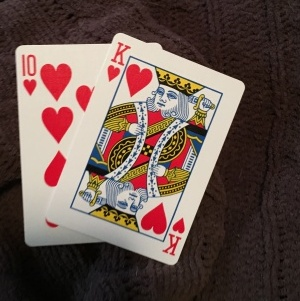card: (53, 33, 246, 268), (9, 43, 107, 247)
